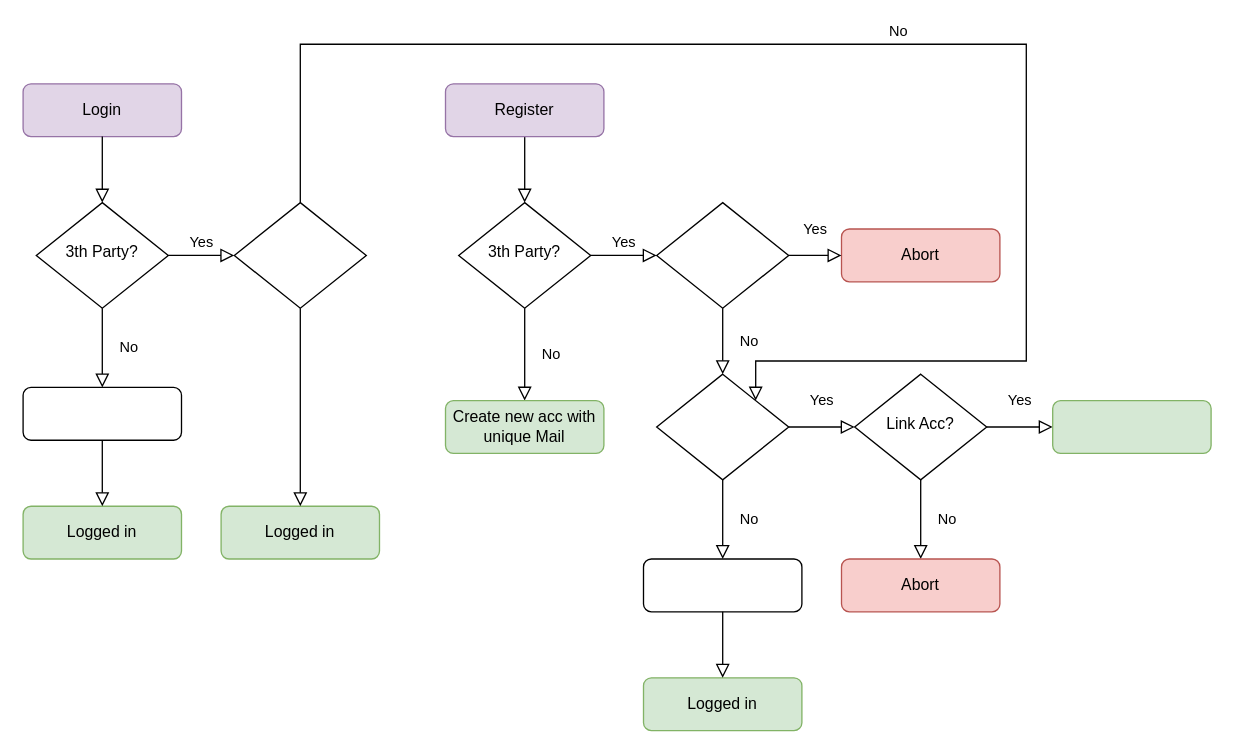
This 1234x754 diagram has some shape labels left out. Here are the shapes that lost their labels. From the top down, the centre of each, then its label:
(x=299, y=254): Account linked?
(x=722, y=254): Acc linked to a local one?
(x=102, y=413): Require Credentials
(x=722, y=426): Local Acc exists with same mail?
(x=1131, y=426): Require PW & link it
(x=722, y=585): Create new acc & Set local Mail to 3th party Mail (PW optional)
